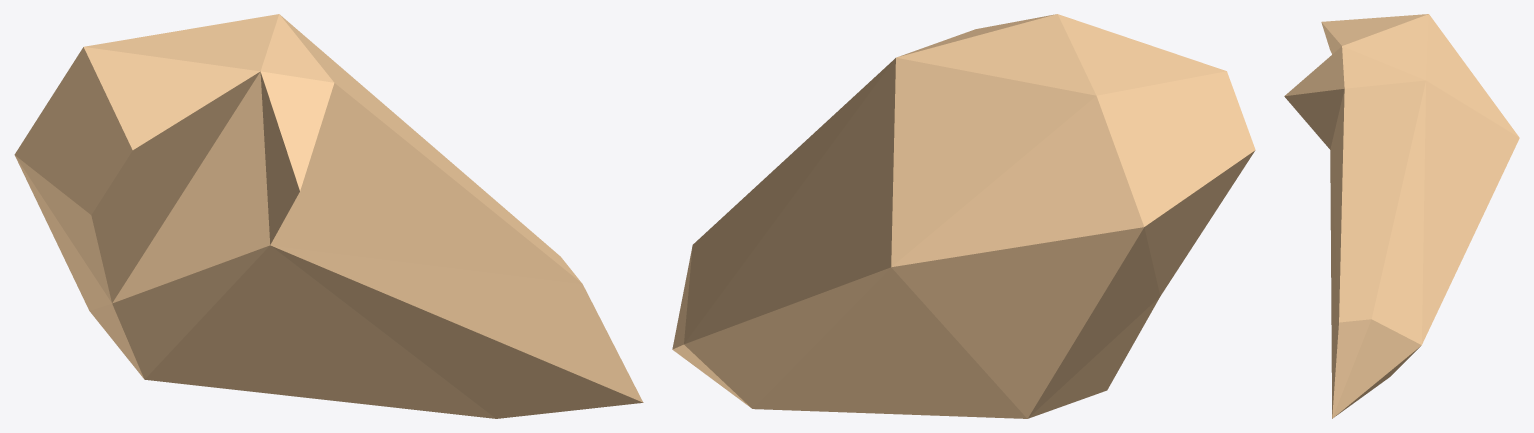
The model's file is Toad_BArm.obj.
The picture shows the model from 3 angles, left to right: view 1: azimuth 30°, elevation 25°; view 2: azimuth 150°, elevation 25°; view 3: azimuth 270°, elevation 25°; orthographic projection. The views are drawn at different scales.
Parts seen in each view (by area): view 1: Toad_DBrazo; view 2: Toad_DBrazo; view 3: Toad_DBrazo.
Boxes of the visible parts, <box> form: Toad_DBrazo: <box>14,14,643,418</box>; Toad_DBrazo: <box>672,14,1255,418</box>; Toad_DBrazo: <box>1284,14,1519,418</box>.
Size of the model in its own units: 0.4113 by 0.2959 by 0.2439.
1 material, 1 textured.
